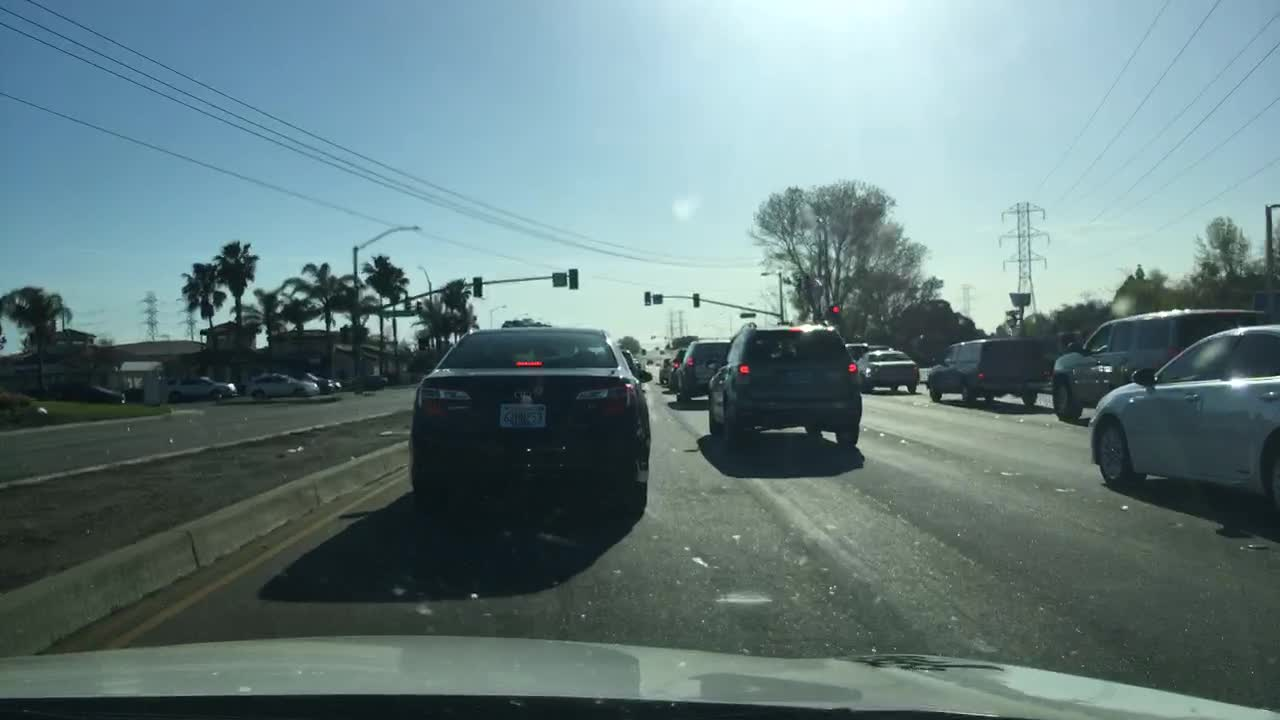car: (408, 326, 646, 516), (1086, 326, 1278, 515), (1049, 309, 1263, 426), (701, 322, 859, 446), (925, 338, 1041, 408), (679, 341, 728, 401), (859, 347, 917, 393), (245, 374, 318, 398), (165, 377, 234, 401), (57, 384, 123, 407), (619, 348, 649, 386), (293, 374, 342, 392), (668, 351, 688, 390), (346, 374, 387, 390), (844, 341, 868, 363), (126, 387, 143, 404), (658, 360, 668, 386), (628, 353, 643, 365)
traffic light: (472, 278, 481, 296), (568, 269, 576, 289), (830, 305, 841, 319), (643, 290, 649, 305), (692, 293, 698, 308)
traffic sign: (384, 308, 414, 317), (549, 272, 565, 287), (652, 293, 661, 305), (737, 313, 755, 319)
